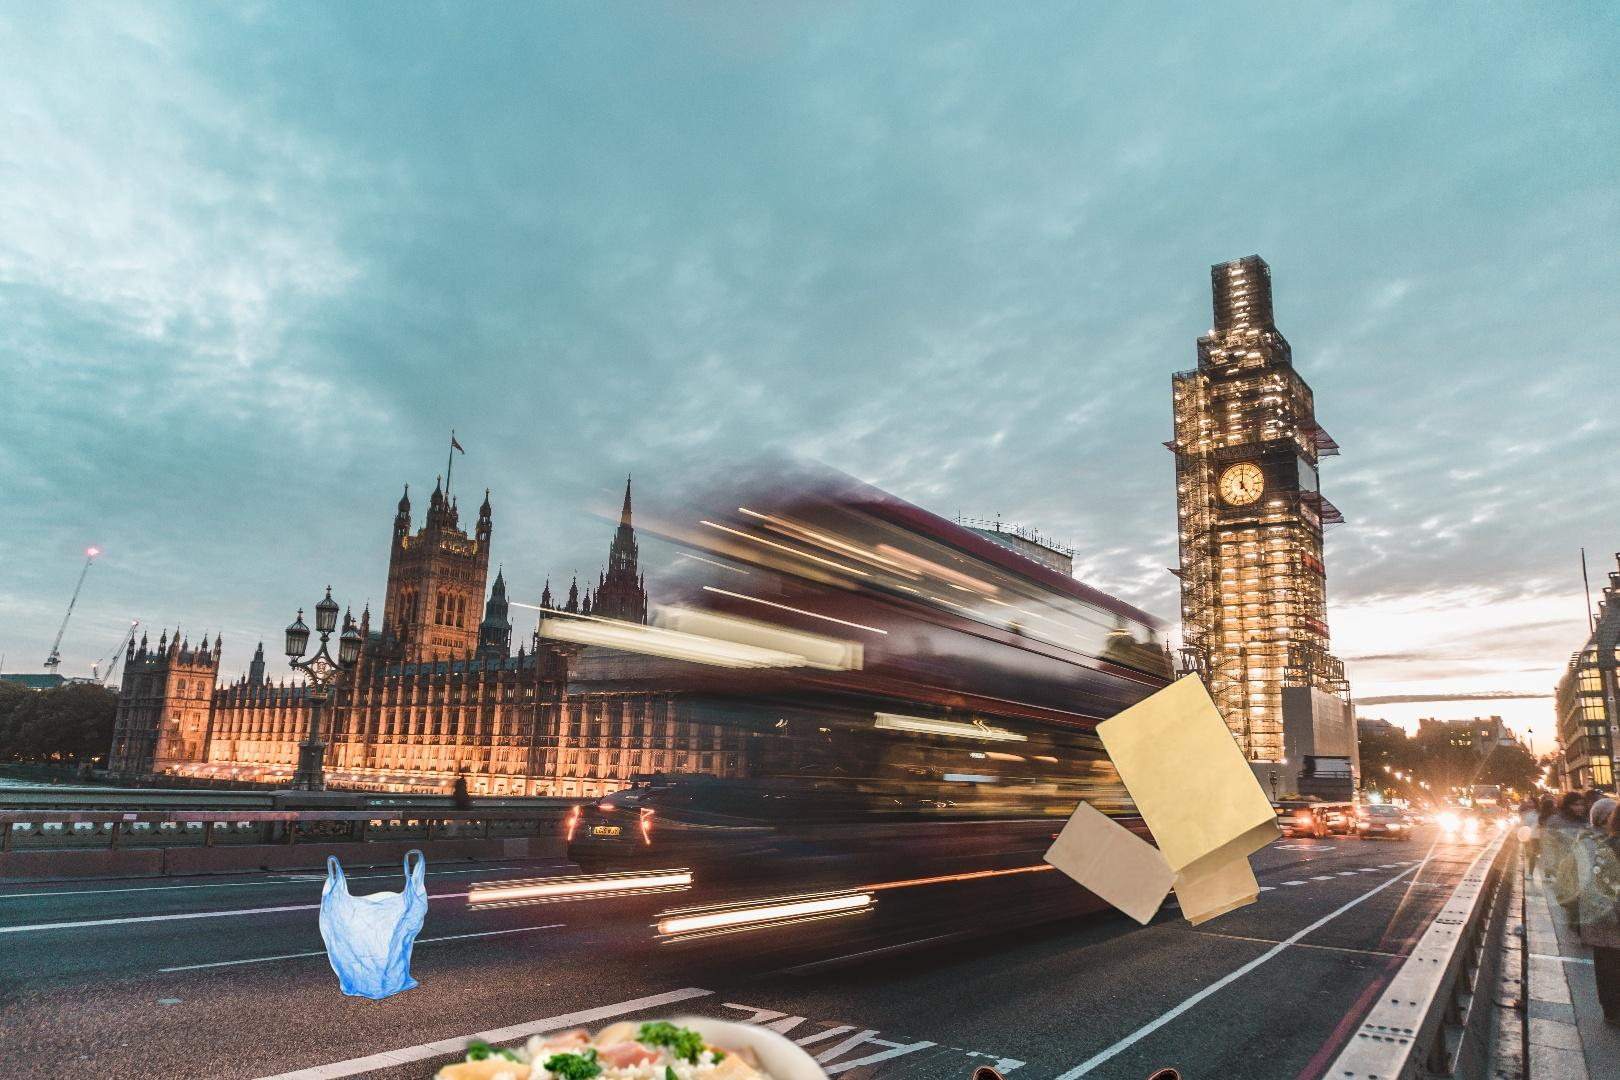biological: (403, 997, 909, 1080)
paper-bag: (1009, 655, 1289, 931)
plastic-bag: (316, 847, 430, 1000)
shoes: (956, 1062, 1185, 1080)
